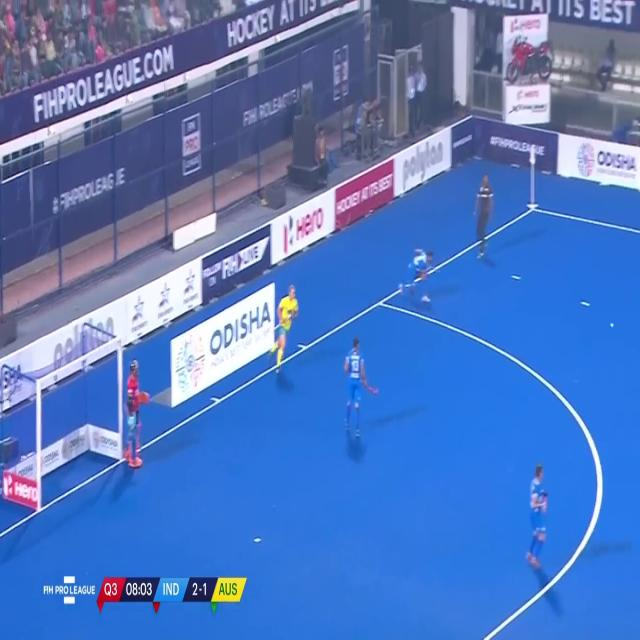ball: (609, 321, 615, 330)
